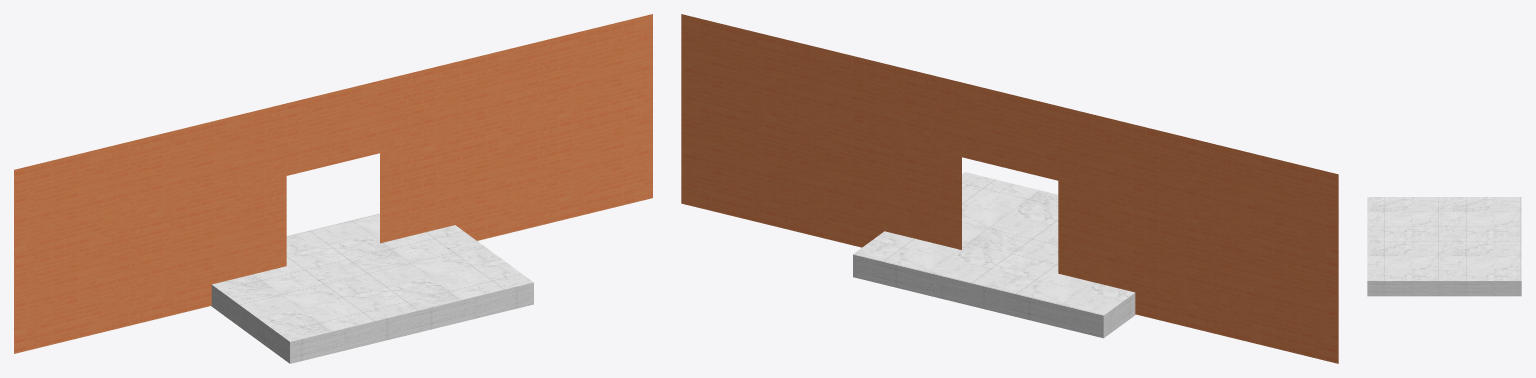
Rendered from update_map_new_baru.fbx.
3 views of the same model, side by side, from view 1: azimuth 30°, elevation 25°; view 2: azimuth 150°, elevation 25°; view 3: azimuth 270°, elevation 25° (orthographic). The views are drawn at different scales.
Visible parts, largest first — view 1: Plane, Cube.005; view 2: Plane, Cube.005; view 3: Cube.005.
Boxes of the visible parts, x1,y1,x2,y2 form: Plane: [14, 14, 652, 353]; Cube.005: [211, 213, 533, 363]; Plane: [681, 14, 1338, 363]; Cube.005: [853, 172, 1135, 338]; Cube.005: [1367, 197, 1521, 296].
Size of the model in its own units: 4199 by 1161 by 1245.
